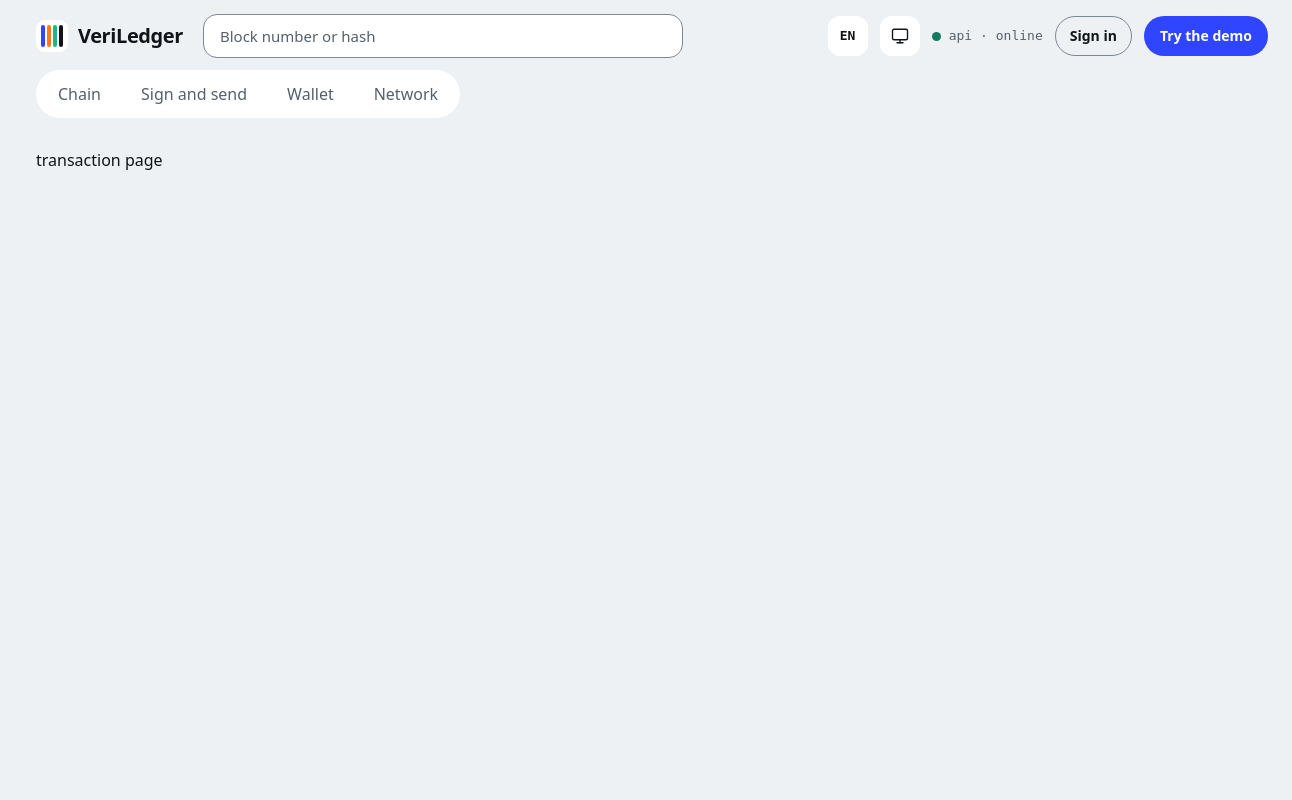
Layout (the shell) › starts a demo from the header without leaving the page
The width and height of the screenshot is (1292, 800).
Click the button "Try the demo" at [1206, 36], box [1144,16,1268,56]
(page scrolled)
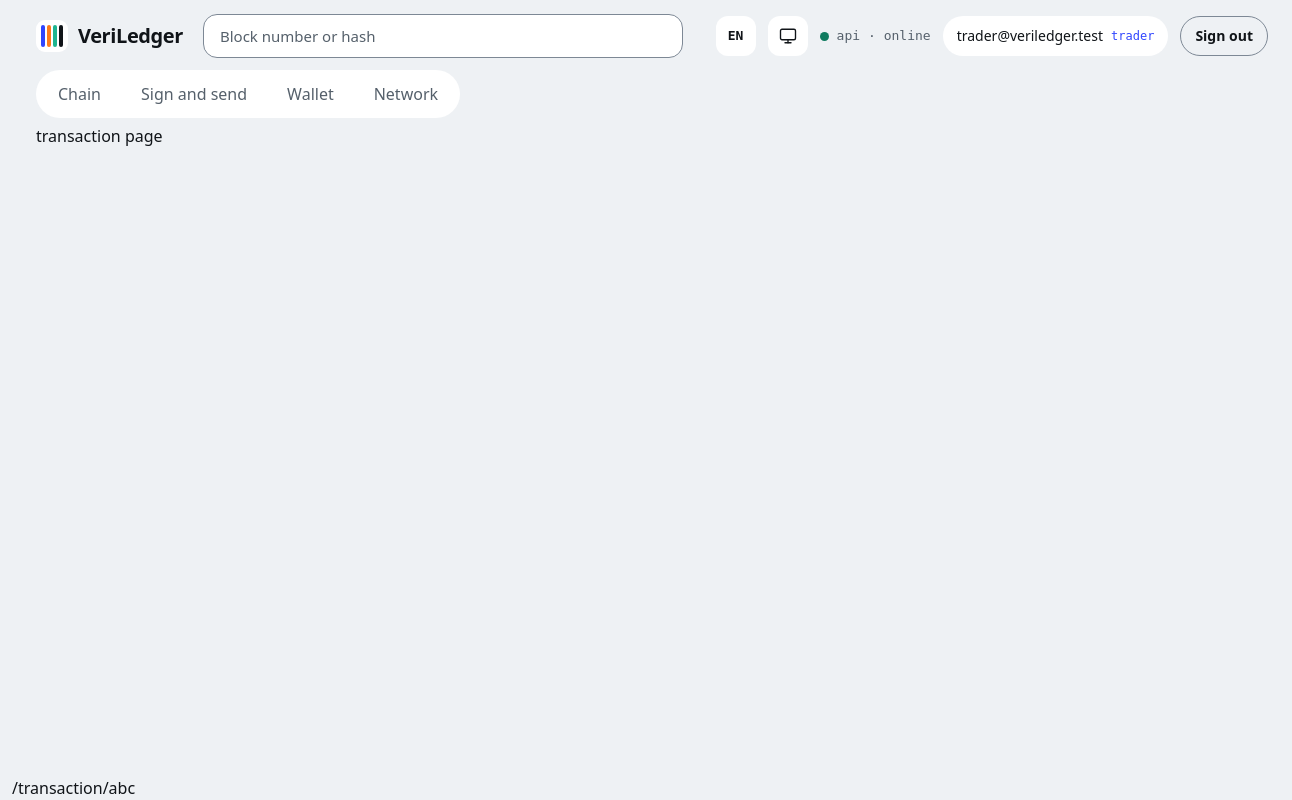
Check: the text with test id "path" reads "/transaction/abc", box [12,777,135,799]
Check: the button "Sign out" is shown, box [1180,16,1268,56]
